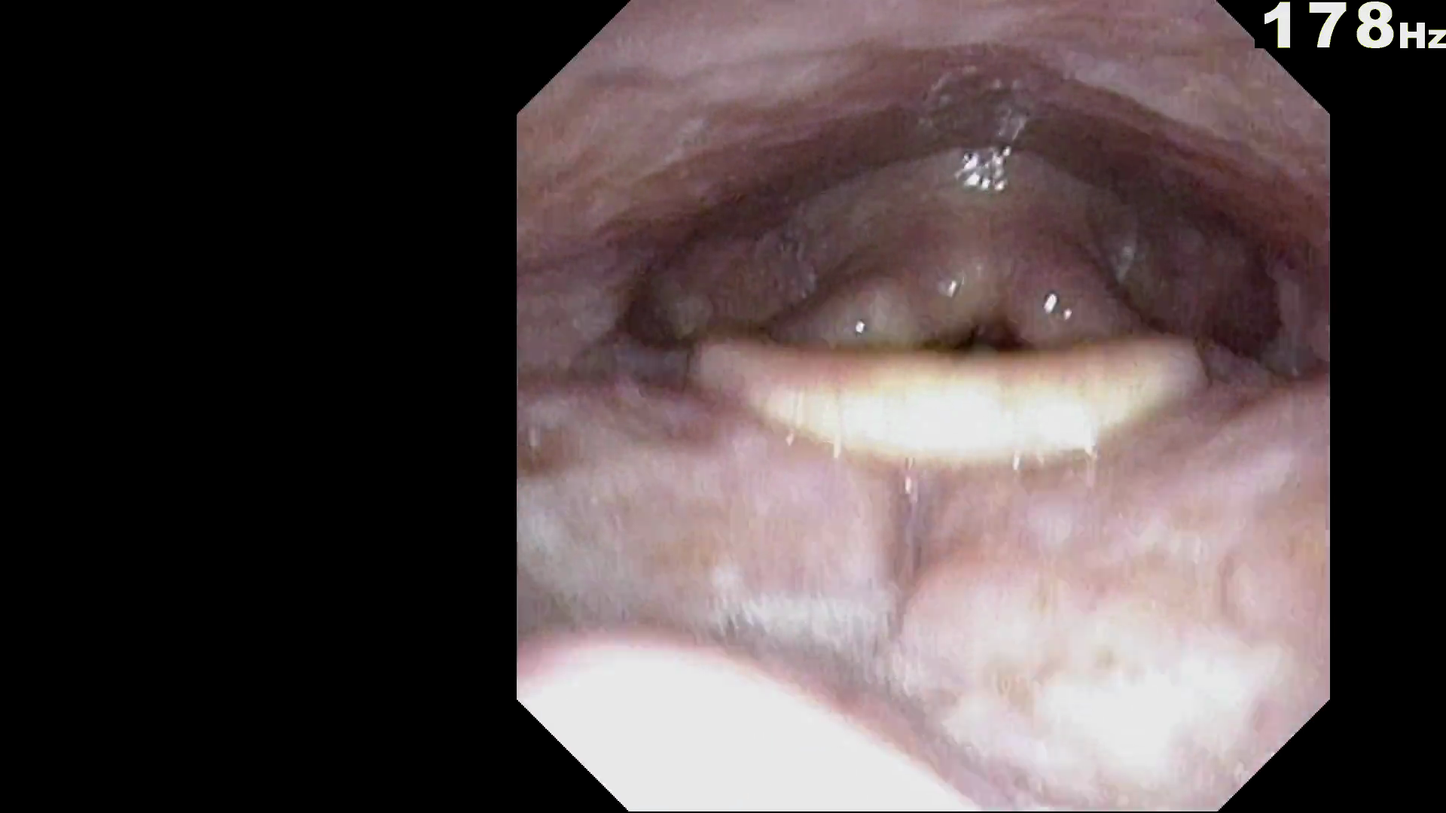epiglottis: (662, 293, 1248, 544)
